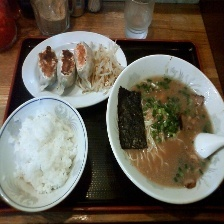rice: (7, 105, 78, 195)
